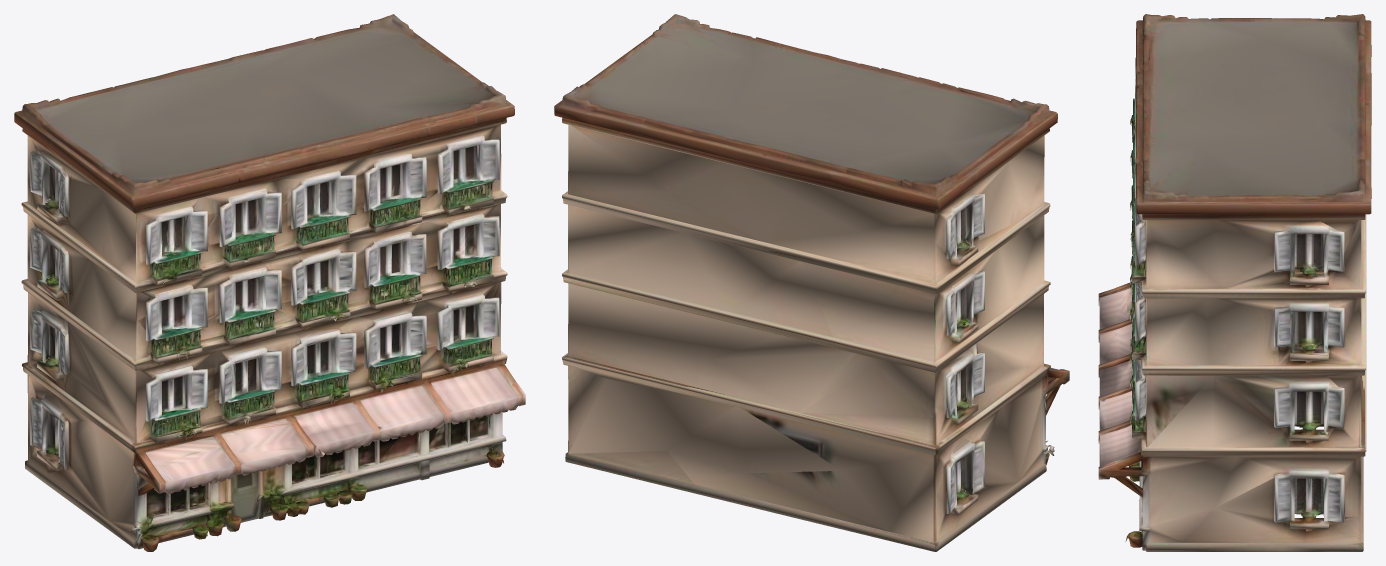
Rendered from gedung-plaza-g06.glb.
3 renders of one model, left to right at view 1: azimuth 30°, elevation 25°; view 2: azimuth 150°, elevation 25°; view 3: azimuth 270°, elevation 25°, orthographic.
Visible parts, largest first — view 1: node_0; view 2: node_0; view 3: node_0.
Boxes of the visible parts, left/top/right/bottom form: node_0: left=14, top=14, right=525, bottom=551; node_0: left=554, top=14, right=1069, bottom=551; node_0: left=1098, top=14, right=1371, bottom=551.
Size of the model in its own units: 0.8243 by 0.7496 by 0.5151.
1 material, 1 textured.
